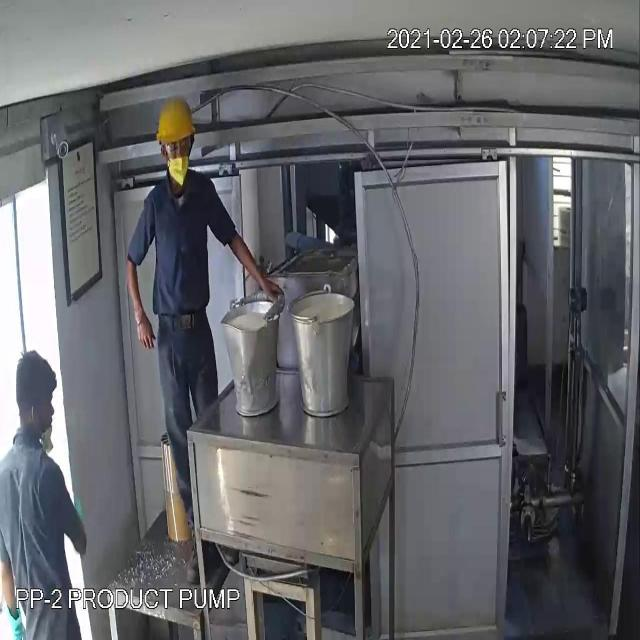helmet: (149, 91, 205, 157)
no-helmet: (11, 343, 69, 429)
